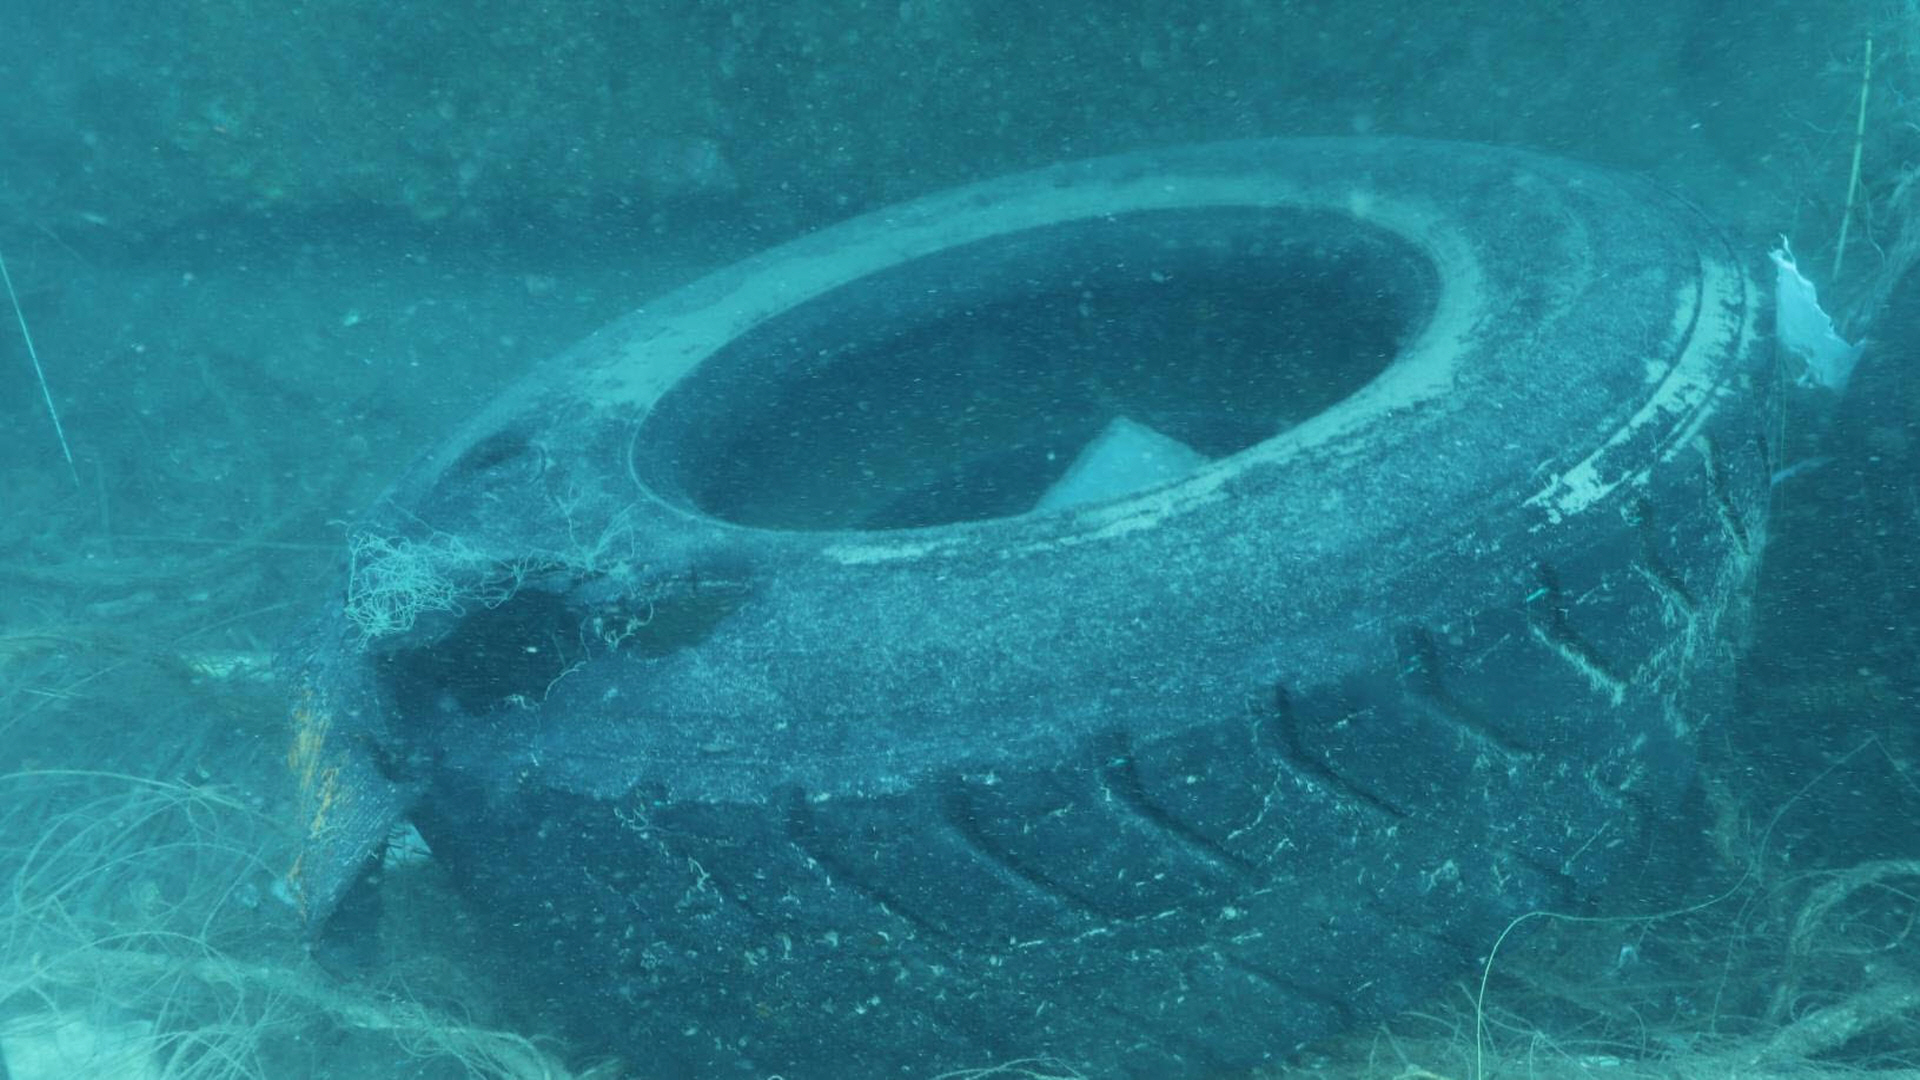tire: (340, 136, 1779, 1080)
